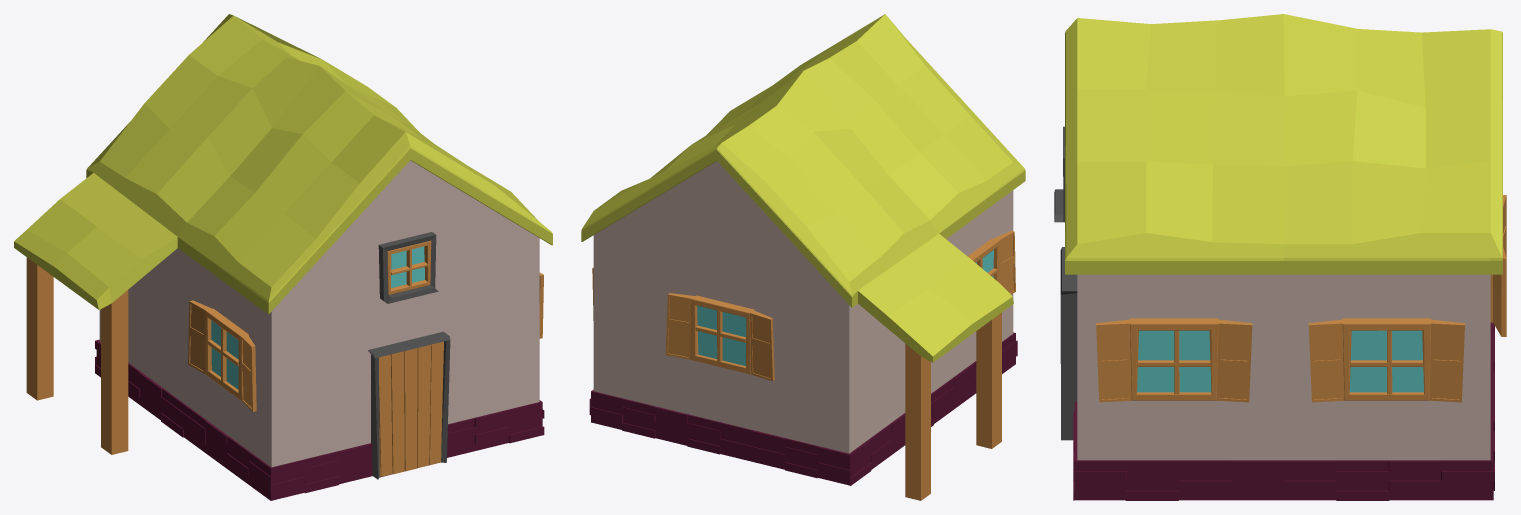
File: house-2.fbx
3 renders of one model, left to right at view 1: azimuth 30°, elevation 25°; view 2: azimuth 150°, elevation 25°; view 3: azimuth 270°, elevation 25°, orthographic. The views are drawn at different scales.
Parts seen in each view (by area): view 1: Cube; view 2: Cube; view 3: Cube.
Part boxes in pixels (left/top/right/bottom): Cube: left=14, top=14, right=552, bottom=500; Cube: left=581, top=14, right=1025, bottom=500; Cube: left=1054, top=14, right=1506, bottom=500.
Size of the model in its own units: 1199 by 1055 by 1063.
